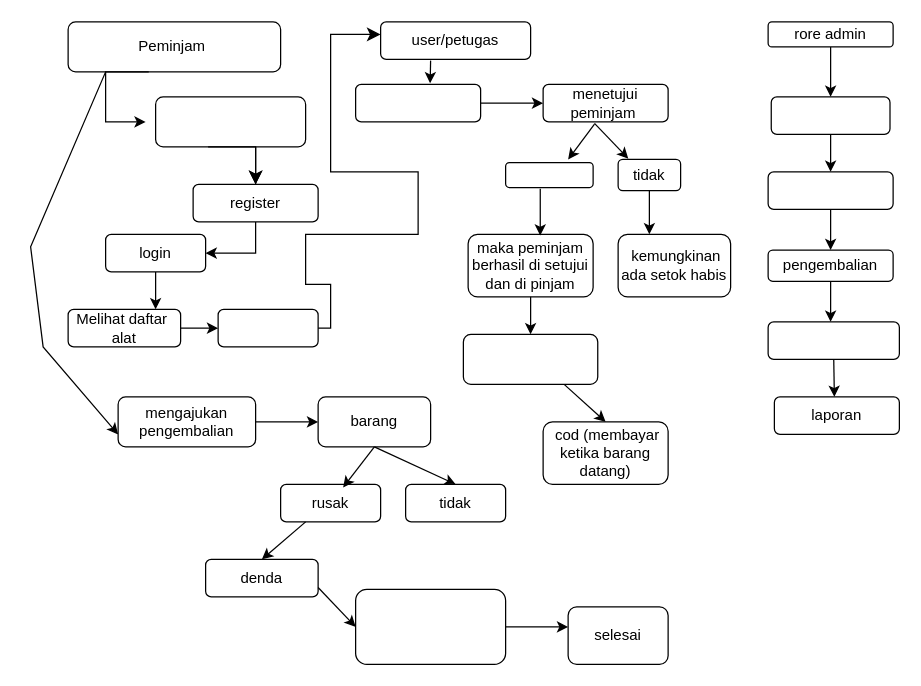
The diagram is 921 pixels wide and 686 high, and some of its shapes have lost their labels. The shapes that lost their labels are listed below. From the top down, each one's centre as x and y in pixels, then its label:
pixel 230 121: Jika belum punya akun (register dullu)
pixel 417 102: login petugas
pixel 830 115: login admin
pixel 548 174: setuju
pixel 830 190: mematau peminjaman
pixel 267 327: mengajukan peminjam
pixel 833 340: log aktivitas
pixel 530 358: tranksaksi membayar
pixel 430 626: waktu mengembalikan barang (membayar denda)
